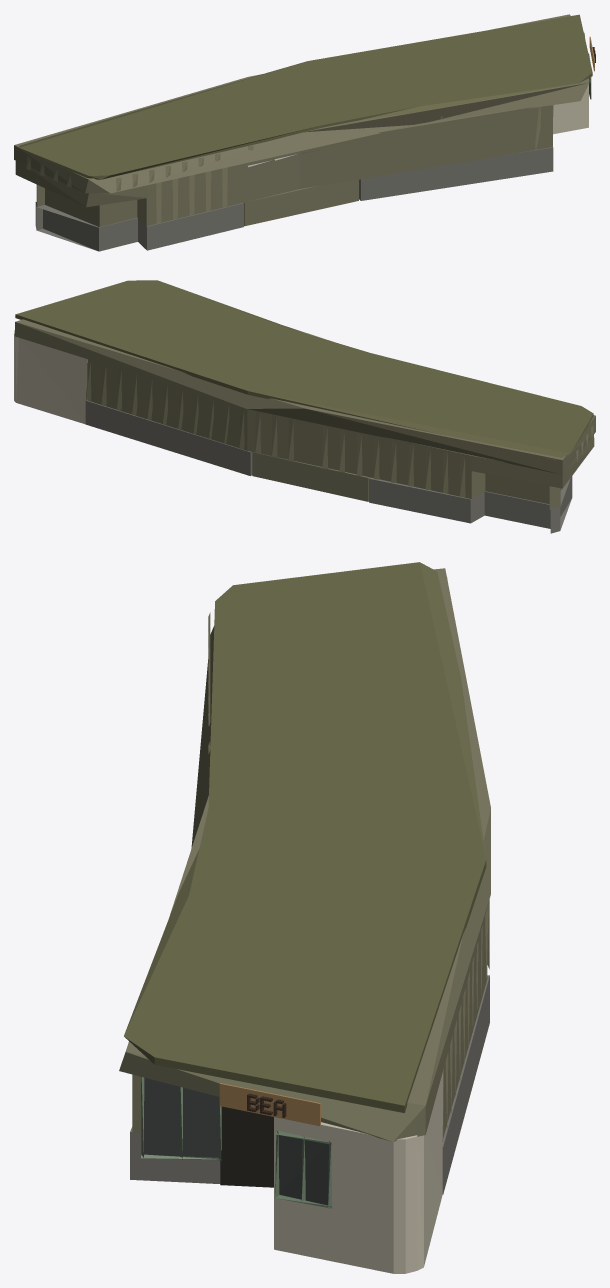
File: kiosk-park-bea.lod1.glb
The picture shows the model from 3 angles, top to bottom: view 1: azimuth 30°, elevation 25°; view 2: azimuth 150°, elevation 25°; view 3: azimuth 270°, elevation 25°; orthographic projection. The views are drawn at different scales.
Parts seen in each view (by area): view 1: kiosk-park-bea; view 2: kiosk-park-bea; view 3: kiosk-park-bea.
Part boxes in pixels (x1=…): kiosk-park-bea: x1=14, y1=14, x2=595, y2=251; kiosk-park-bea: x1=14, y1=280, x2=595, y2=533; kiosk-park-bea: x1=119, y1=562, x2=490, y2=1273.
Bounding box in the file's own units: 22.02 × 3.14 × 6.35.
